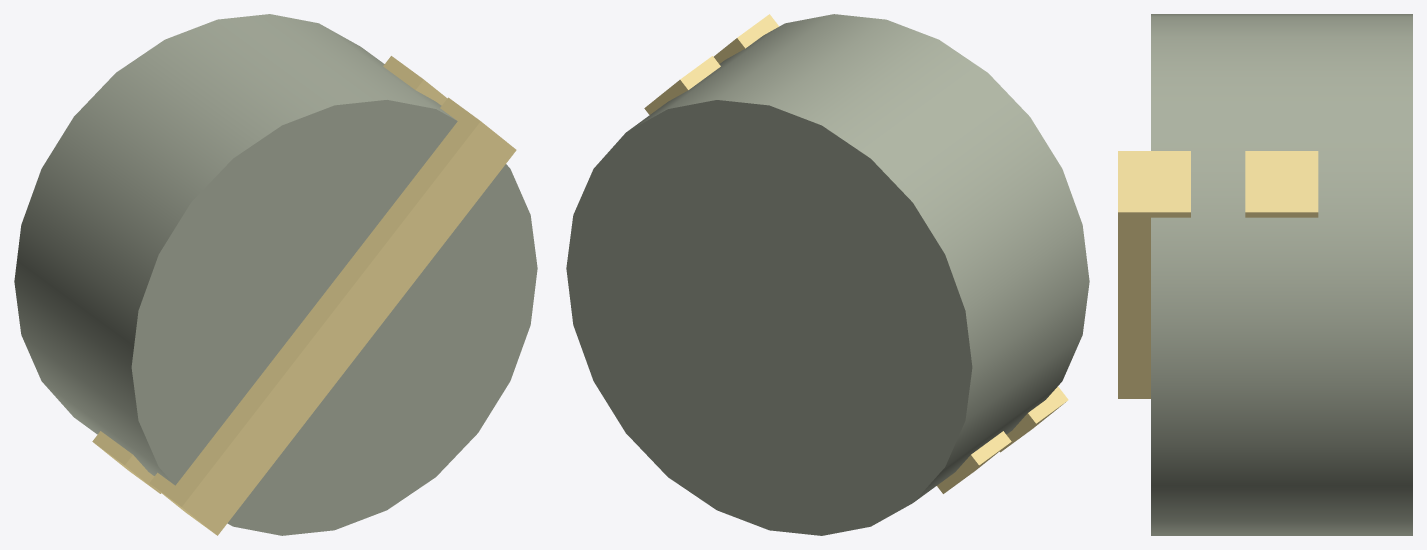
File: roller_left.glb
The picture shows the model from 3 angles, left to right: view 1: azimuth 30°, elevation 25°; view 2: azimuth 150°, elevation 25°; view 3: azimuth 270°, elevation 25°; orthographic projection. The views are drawn at different scales.
Visible parts, largest first — view 1: hub, roller_witness_b, roller_witness_a; view 2: hub, roller_witness_a, roller_witness_b; view 3: hub, roller_witness_b, roller_witness_a.
Boxes of the visible parts, x1,y1,x2,y2 form: hub: [14, 14, 537, 535]; roller_witness_b: [149, 97, 516, 535]; roller_witness_a: [92, 56, 447, 493]; hub: [566, 14, 1089, 535]; roller_witness_a: [644, 56, 1011, 493]; roller_witness_b: [714, 14, 1068, 452]; hub: [1151, 14, 1412, 535]; roller_witness_b: [1118, 151, 1190, 398]; roller_witness_a: [1245, 151, 1318, 217].
Size of the model in its own units: 0.144 by 0.144 by 0.081.
